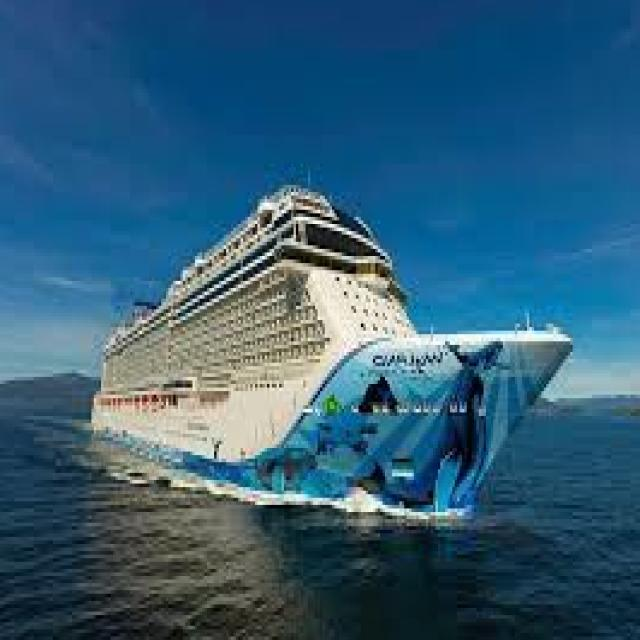passenger ship: (90, 178, 580, 512)
